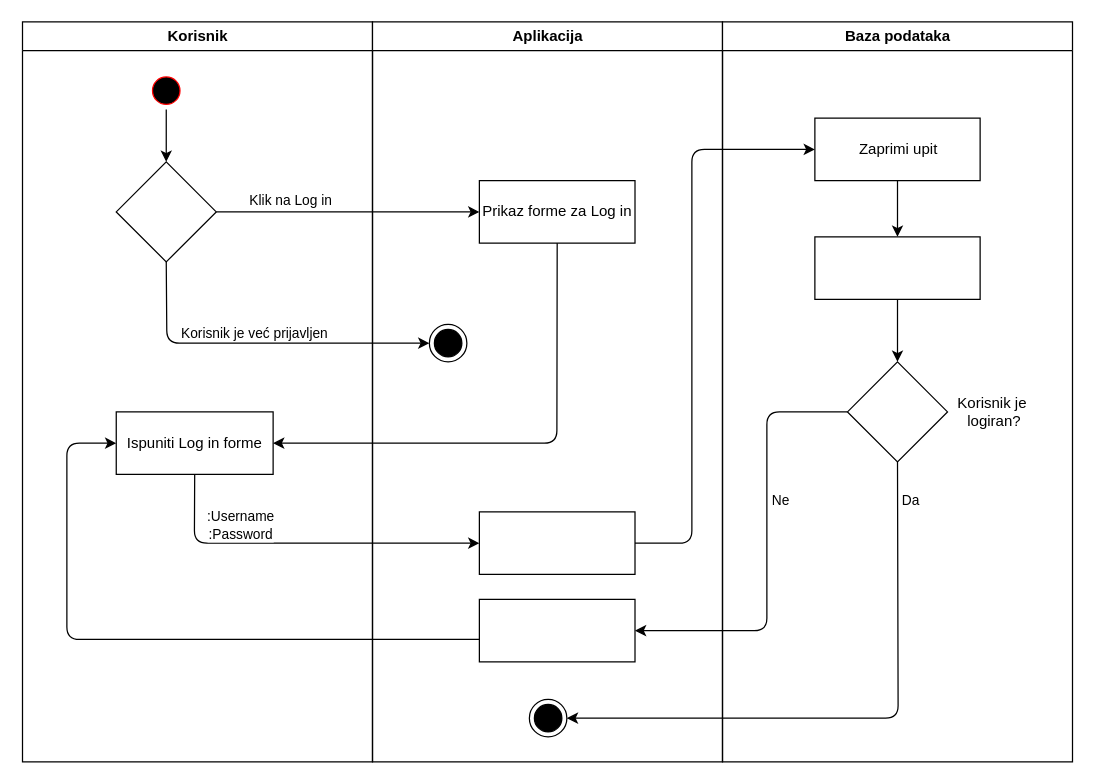
Some shapes in this 1094 by 784 pixel diagram are drawn without their labels. Each missing label, with the centre of its shape:
Ispis greške: the point at 556,630
Pripremi upit na bazu: the point at 556,542
Provjeri korisnika u bazi: the point at 897,267
